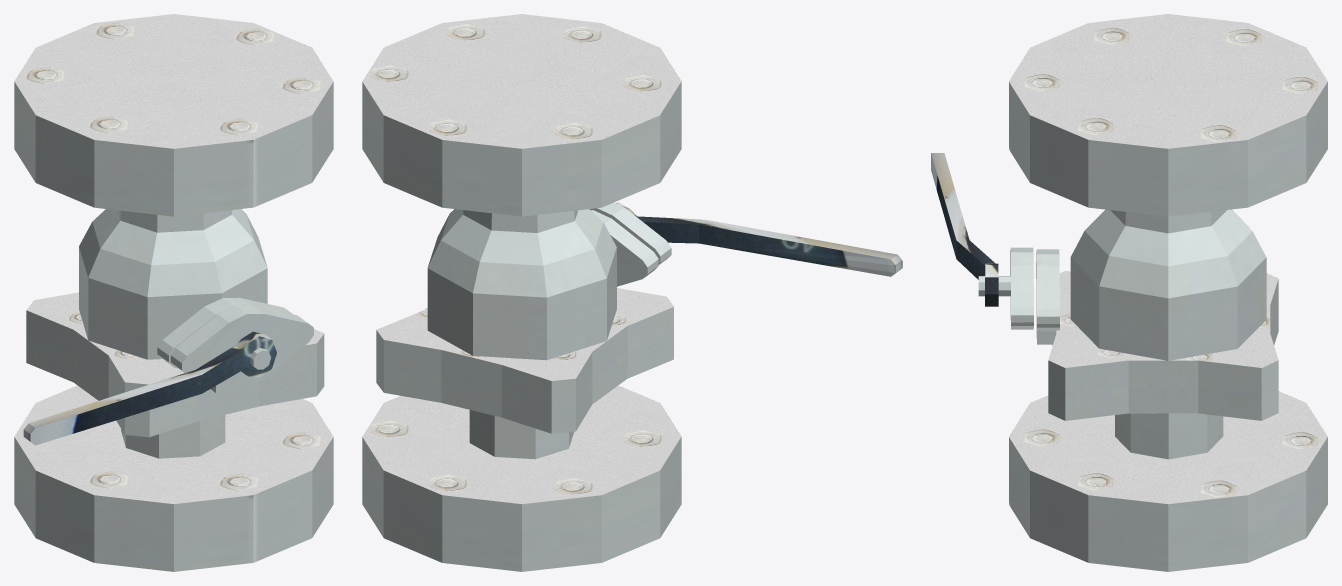
Rendered from pj-162-geode.glb.
3 renders of one model, left to right at view 1: azimuth 30°, elevation 25°; view 2: azimuth 150°, elevation 25°; view 3: azimuth 270°, elevation 25°, orthographic.
Visible parts, largest first — view 1: Node; view 2: Node; view 3: Node.
Part boxes in pixels (x1,y1,x2,y2): Node: (14, 14, 333, 571); Node: (362, 14, 902, 571); Node: (931, 14, 1327, 571).
Size of the model in its own units: 0.2028 by 0.2048 by 0.1741.
2 materials, 2 textured.
